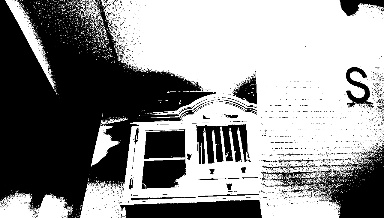S: (340, 65, 374, 104)
